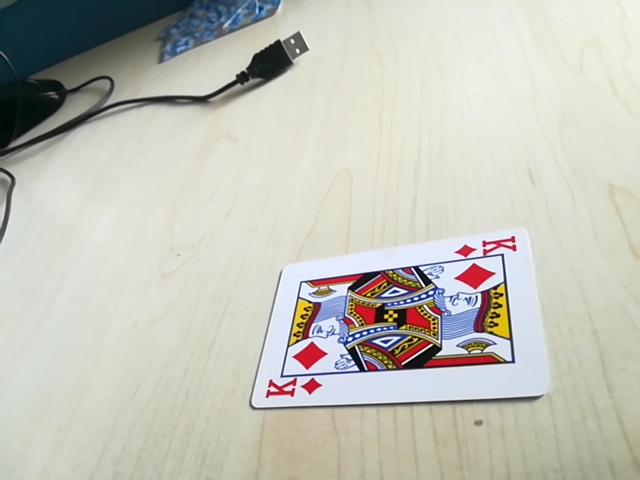fk k: (257, 376, 324, 404), (457, 234, 521, 261)
